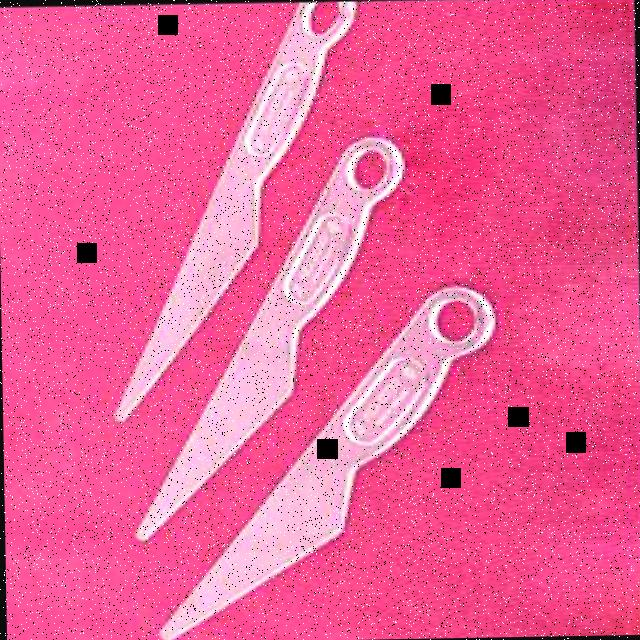plastic_spoon: (103, 0, 503, 640)
